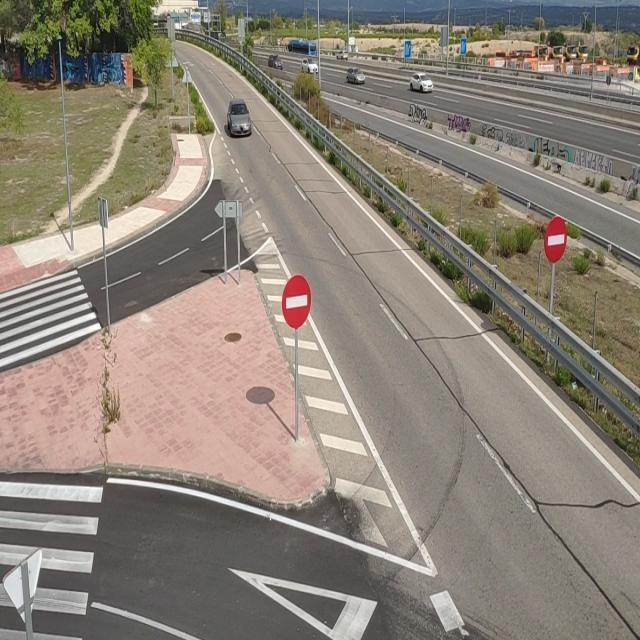Car: (227, 99, 252, 138), (410, 73, 434, 93), (300, 58, 322, 76), (348, 67, 367, 82), (267, 56, 284, 72), (336, 51, 349, 60)
